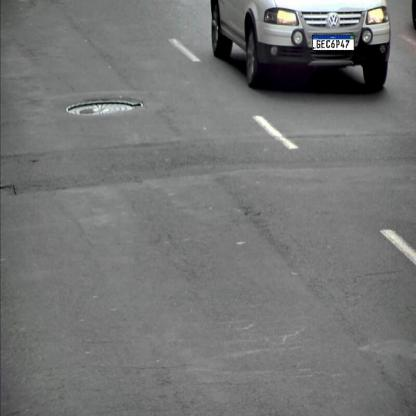PlacaM: (312, 34, 355, 50)
